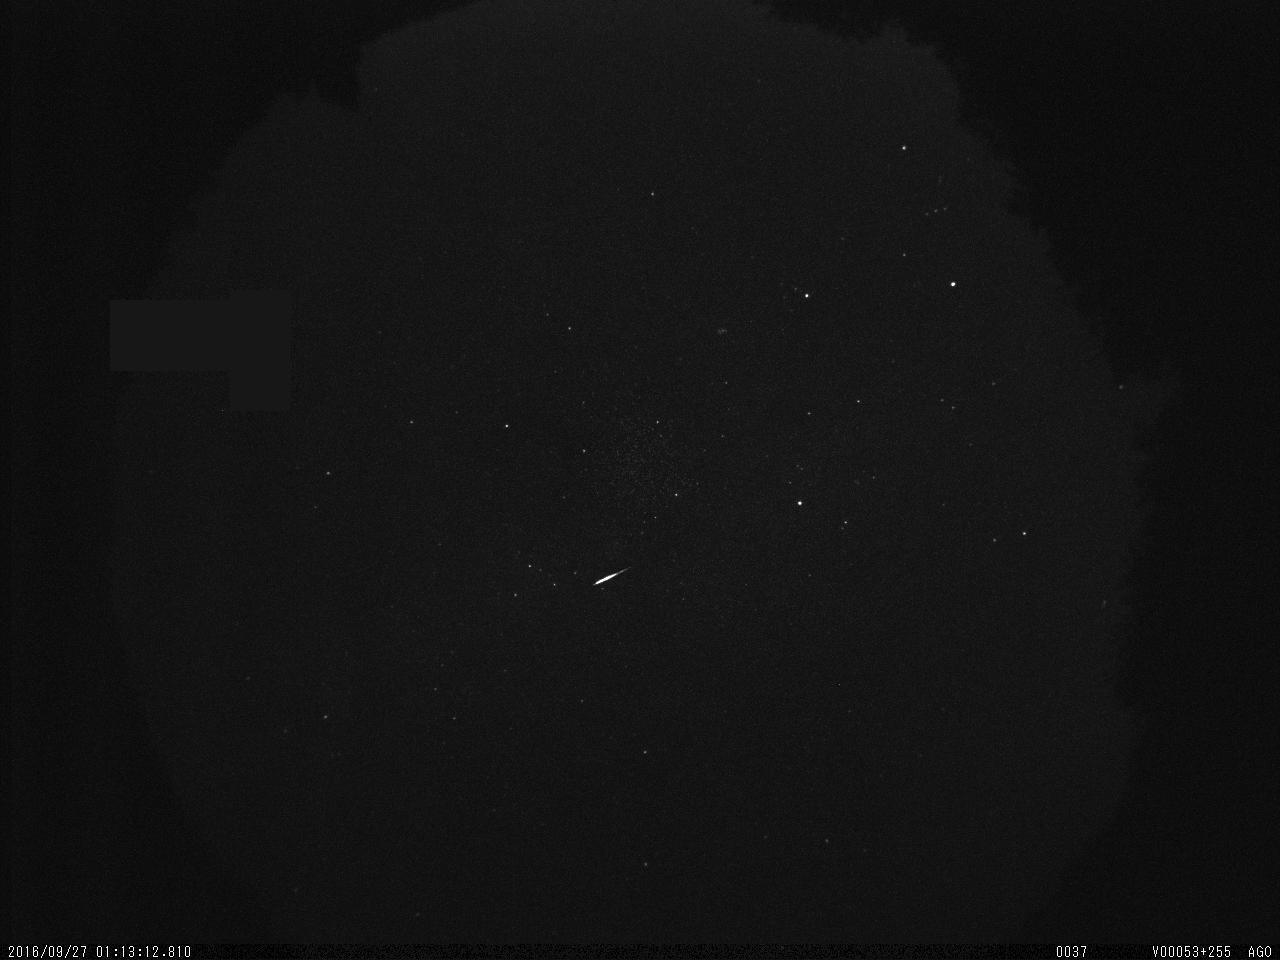meteor: (577, 550, 671, 612)
